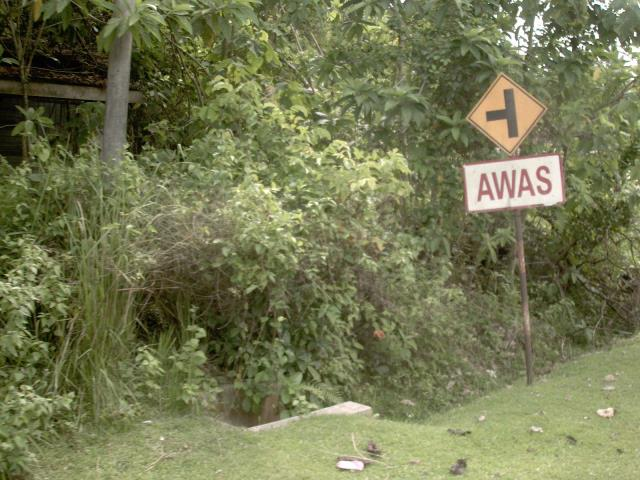traffic_sign: (458, 63, 555, 160)
